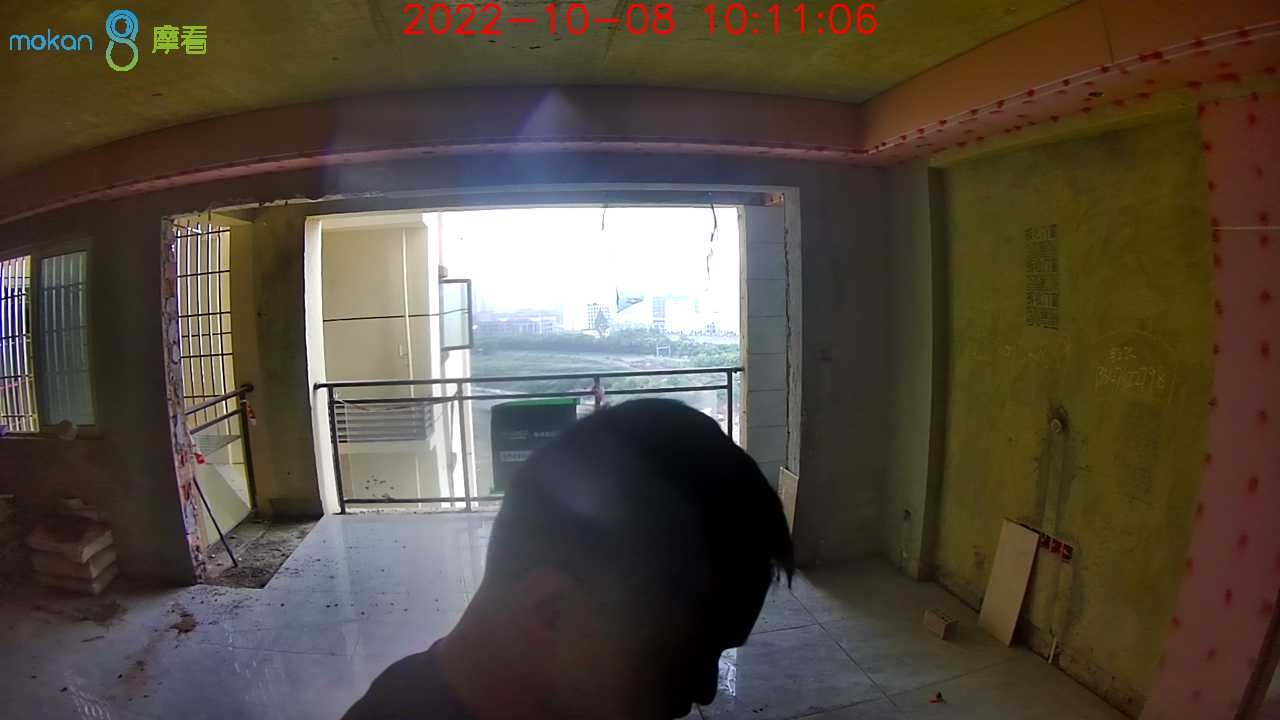people: (342, 396, 800, 718)
window: (316, 205, 742, 374), (332, 387, 742, 507)
